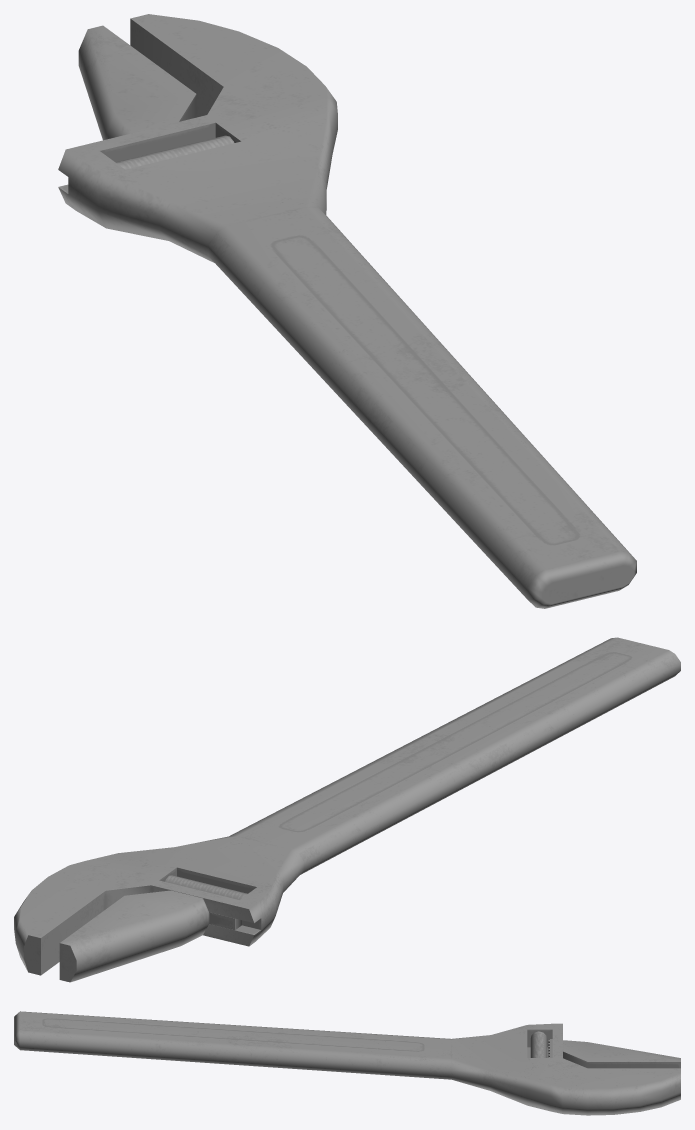
The model's file is wrench.fbx.
The picture shows the model from 3 angles, top to bottom: view 1: azimuth 30°, elevation 25°; view 2: azimuth 150°, elevation 25°; view 3: azimuth 270°, elevation 25°; orthographic projection. The views are drawn at different scales.
Parts seen in each view (by area): view 1: wrench_Tools_0; view 2: wrench_Tools_0; view 3: wrench_Tools_0.
Boxes of the visible parts, left/top/right/bottom form: wrench_Tools_0: left=58, top=14, right=636, bottom=608; wrench_Tools_0: left=14, top=637, right=680, bottom=982; wrench_Tools_0: left=14, top=1011, right=680, bottom=1115.
Bounding box in the file's own units: 922 × 133 × 2976.
1 material, 1 textured.
